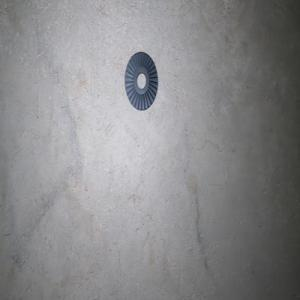Washer: (124, 51, 157, 110)
